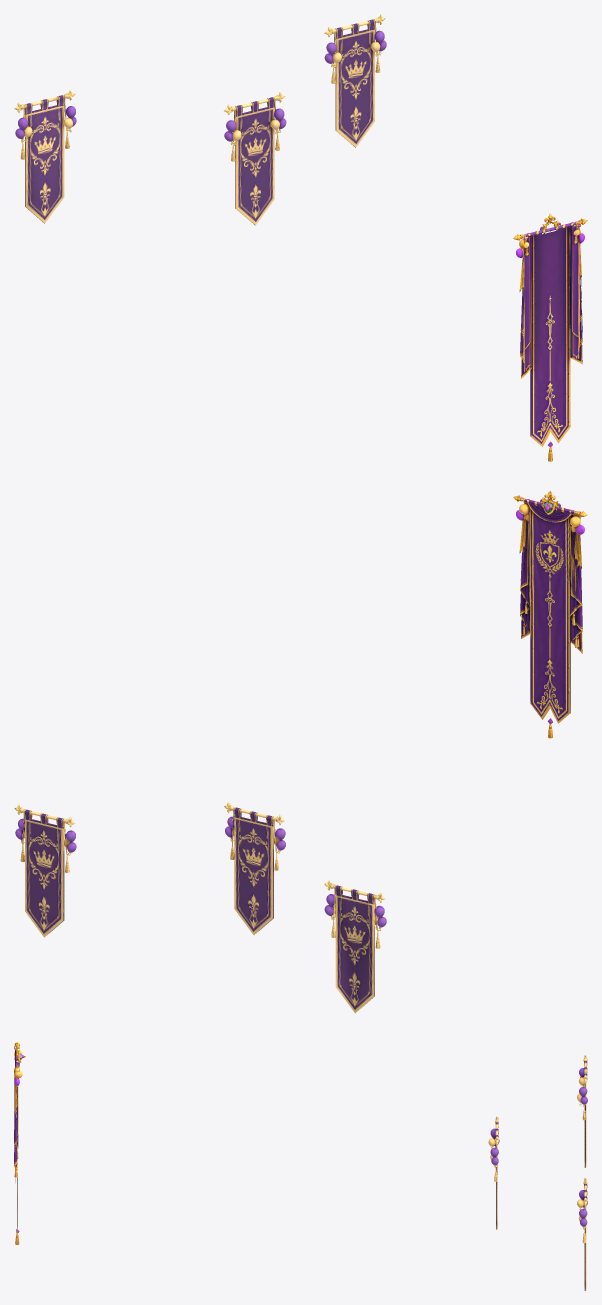
Rendered from bannerMain.glb.
The picture shows the model from 3 angles, top to bottom: view 1: azimuth 30°, elevation 25°; view 2: azimuth 150°, elevation 25°; view 3: azimuth 270°, elevation 25°; orthographic projection. The views are drawn at different scales.
Visible parts, largest first — view 1: tripo_9caca844_9b9a_4be2_8369_756dd487cee5, tripo_755feb52_3a84_43c4_a398_59a5911ddaa8.002, tripo_755feb52_3a84_43c4_a398_59a5911ddaa8, tripo_755feb52_3a84_43c4_a398_59a5911ddaa8.001; view 2: tripo_9caca844_9b9a_4be2_8369_756dd487cee5, tripo_755feb52_3a84_43c4_a398_59a5911ddaa8.002, tripo_755feb52_3a84_43c4_a398_59a5911ddaa8.001, tripo_755feb52_3a84_43c4_a398_59a5911ddaa8; view 3: tripo_9caca844_9b9a_4be2_8369_756dd487cee5, tripo_755feb52_3a84_43c4_a398_59a5911ddaa8.002, tripo_755feb52_3a84_43c4_a398_59a5911ddaa8.001, tripo_755feb52_3a84_43c4_a398_59a5911ddaa8.
Part boxes in pixels (bbox=[...]): tripo_9caca844_9b9a_4be2_8369_756dd487cee5: bbox=[513, 213, 587, 461]; tripo_755feb52_3a84_43c4_a398_59a5911ddaa8.002: bbox=[14, 90, 76, 223]; tripo_755feb52_3a84_43c4_a398_59a5911ddaa8: bbox=[224, 92, 286, 225]; tripo_755feb52_3a84_43c4_a398_59a5911ddaa8.001: bbox=[324, 14, 386, 147]; tripo_9caca844_9b9a_4be2_8369_756dd487cee5: bbox=[513, 490, 587, 738]; tripo_755feb52_3a84_43c4_a398_59a5911ddaa8.002: bbox=[324, 880, 386, 1013]; tripo_755feb52_3a84_43c4_a398_59a5911ddaa8.001: bbox=[14, 804, 76, 937]; tripo_755feb52_3a84_43c4_a398_59a5911ddaa8: bbox=[224, 802, 285, 934]; tripo_9caca844_9b9a_4be2_8369_756dd487cee5: bbox=[14, 1042, 25, 1244]; tripo_755feb52_3a84_43c4_a398_59a5911ddaa8.002: bbox=[577, 1055, 587, 1167]; tripo_755feb52_3a84_43c4_a398_59a5911ddaa8.001: bbox=[577, 1177, 587, 1290]; tripo_755feb52_3a84_43c4_a398_59a5911ddaa8: bbox=[488, 1116, 499, 1229].
Bounding box in the file's own units: 18.34 × 11.65 × 30.28.
2 materials, 2 textured.
